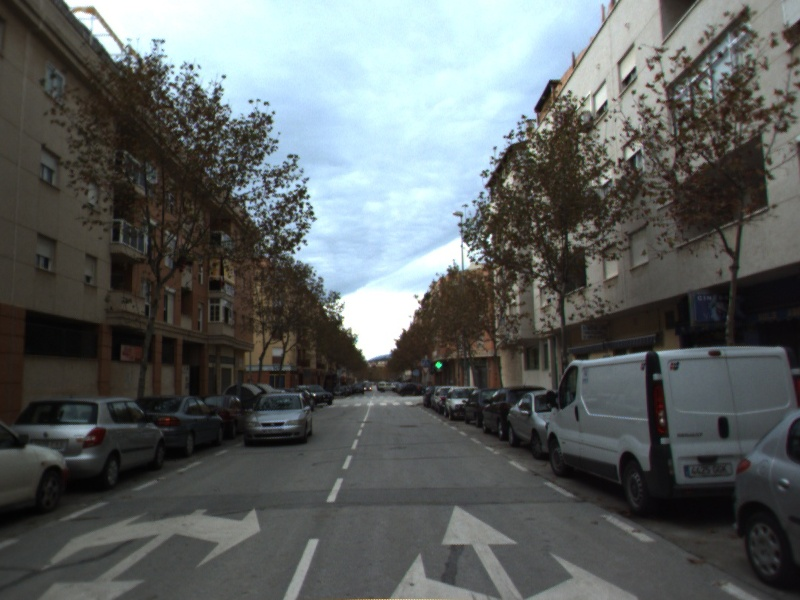STRAIGHT_LEFT_RIGHT: (384, 501, 644, 600)
